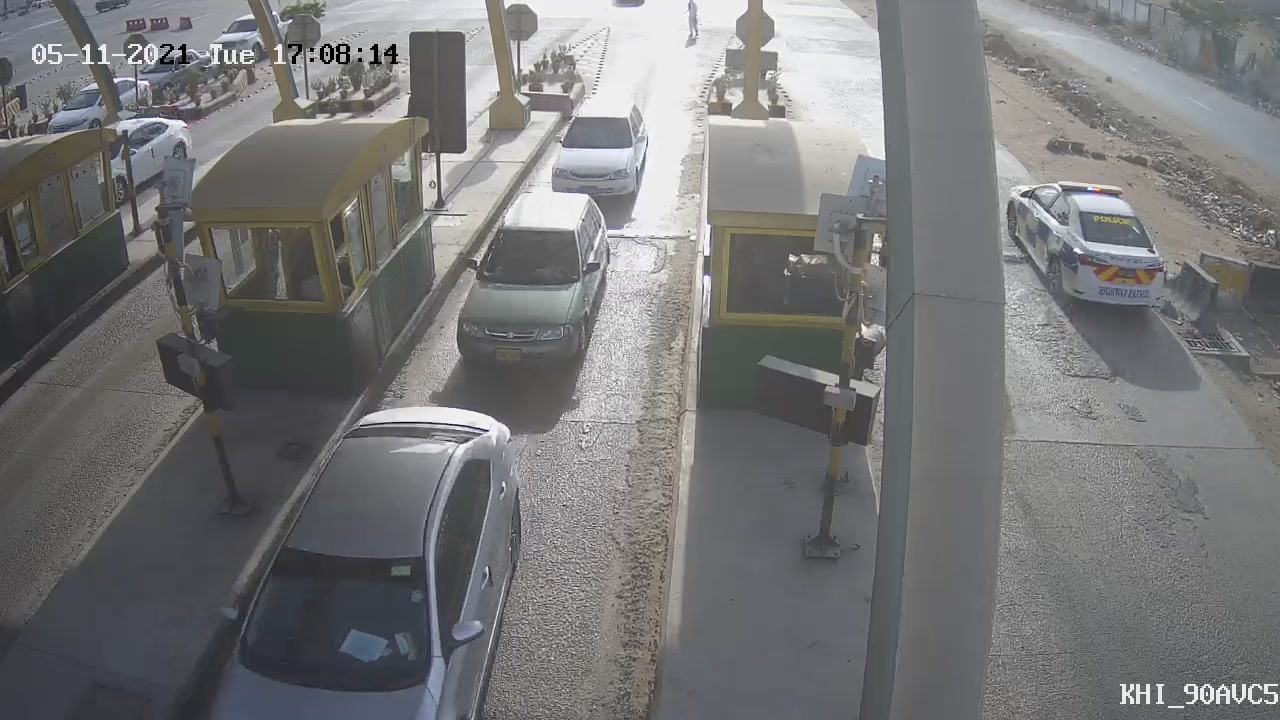F1: (442, 179, 627, 390), (531, 87, 661, 213)
